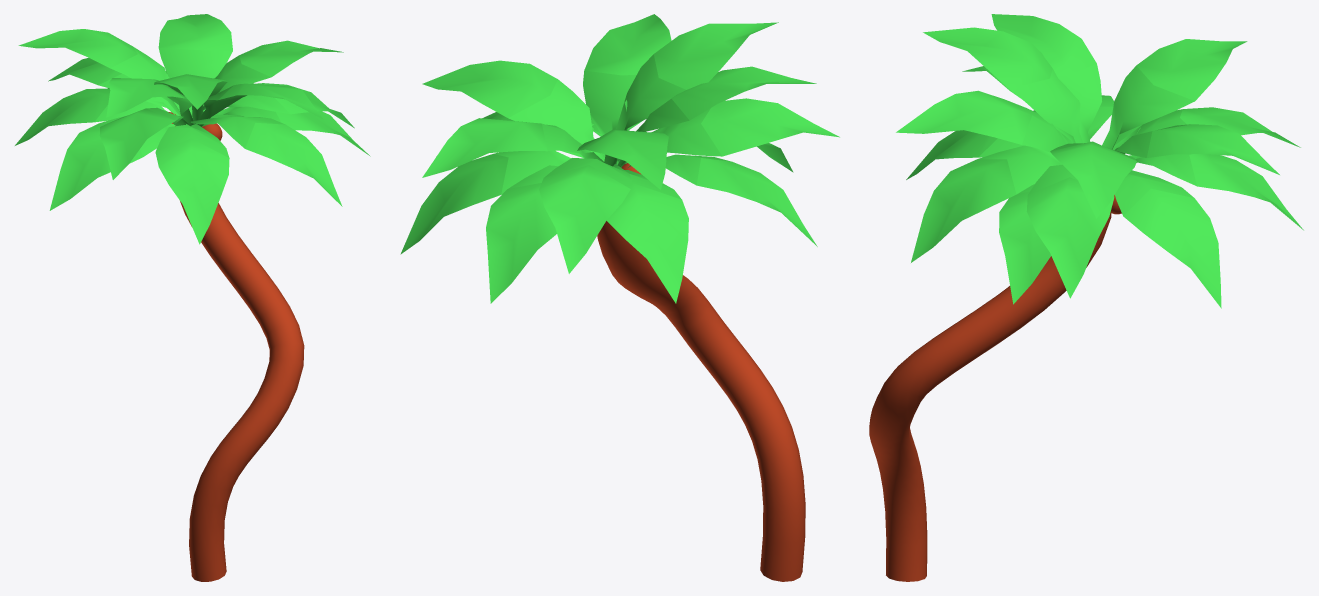
Rendered from Palmera.fbx.
3 views of the same model, side by side, from view 1: azimuth 30°, elevation 25°; view 2: azimuth 150°, elevation 25°; view 3: azimuth 270°, elevation 25° (orthographic). The views are drawn at different scales.
Visible parts, largest first — view 1: Plantas, Base; view 2: Plantas, Base; view 3: Plantas, Base.
Part boxes in pixels (x1,y1,x2,y2): Plantas: (15,14,370,244); Base: (180,201,304,581); Plantas: (400,14,839,303); Base: (597,221,805,581); Plantas: (896,14,1303,308); Base: (869,213,1111,581).
Size of the model in its own units: 534 by 766 by 551.
